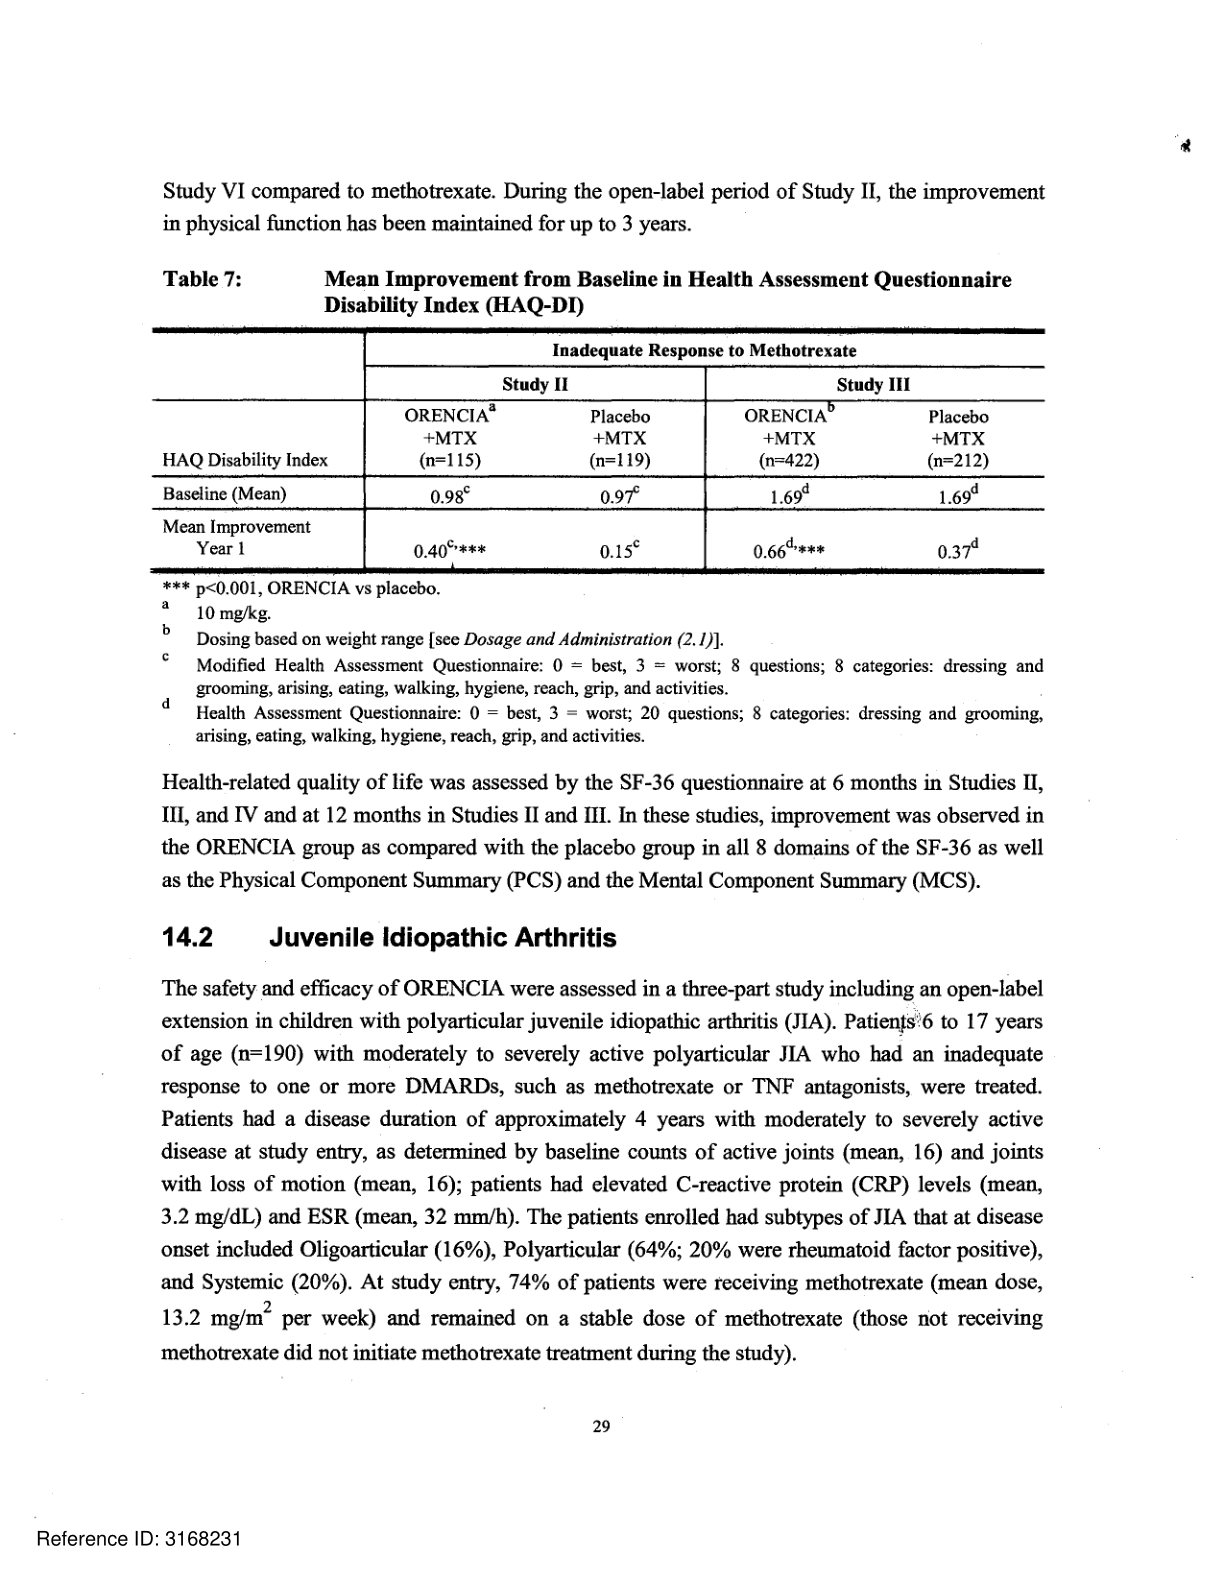partial_lined_merged_cells: (149, 325, 1044, 577)
